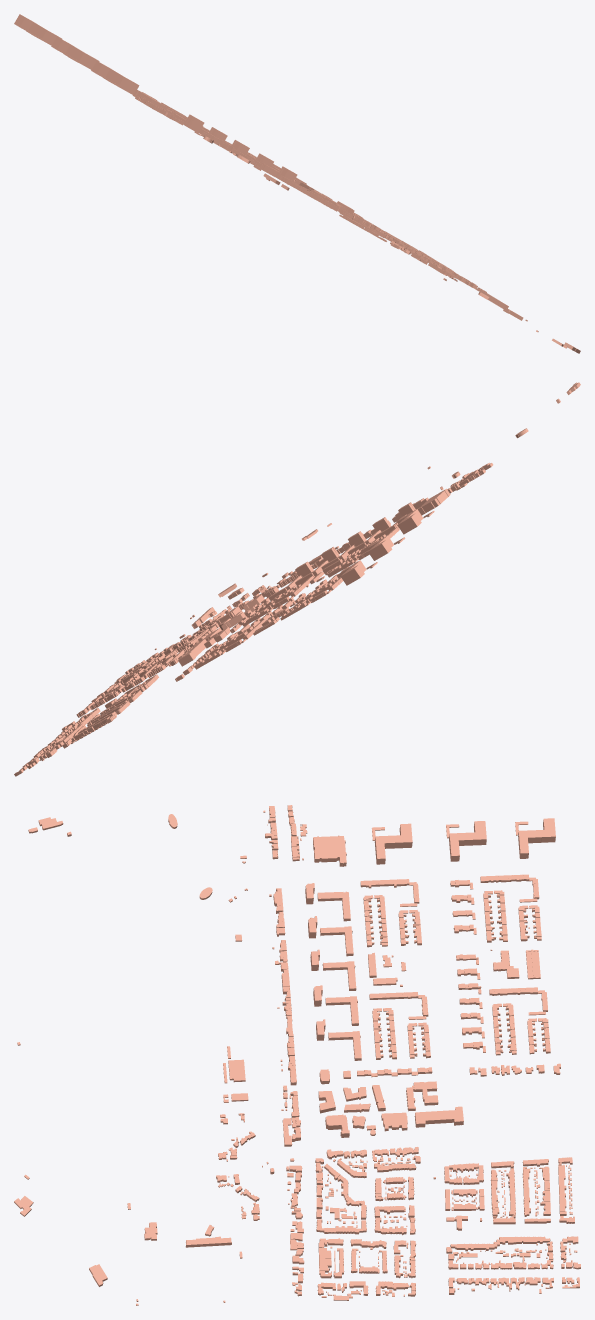
3 views of the same model, one above another, from view 1: azimuth 30°, elevation 25°; view 2: azimuth 150°, elevation 25°; view 3: azimuth 270°, elevation 25° (orthographic). The views are drawn at different scales.
Bounding box in the file's own units: 978 × 744 × 1225.
